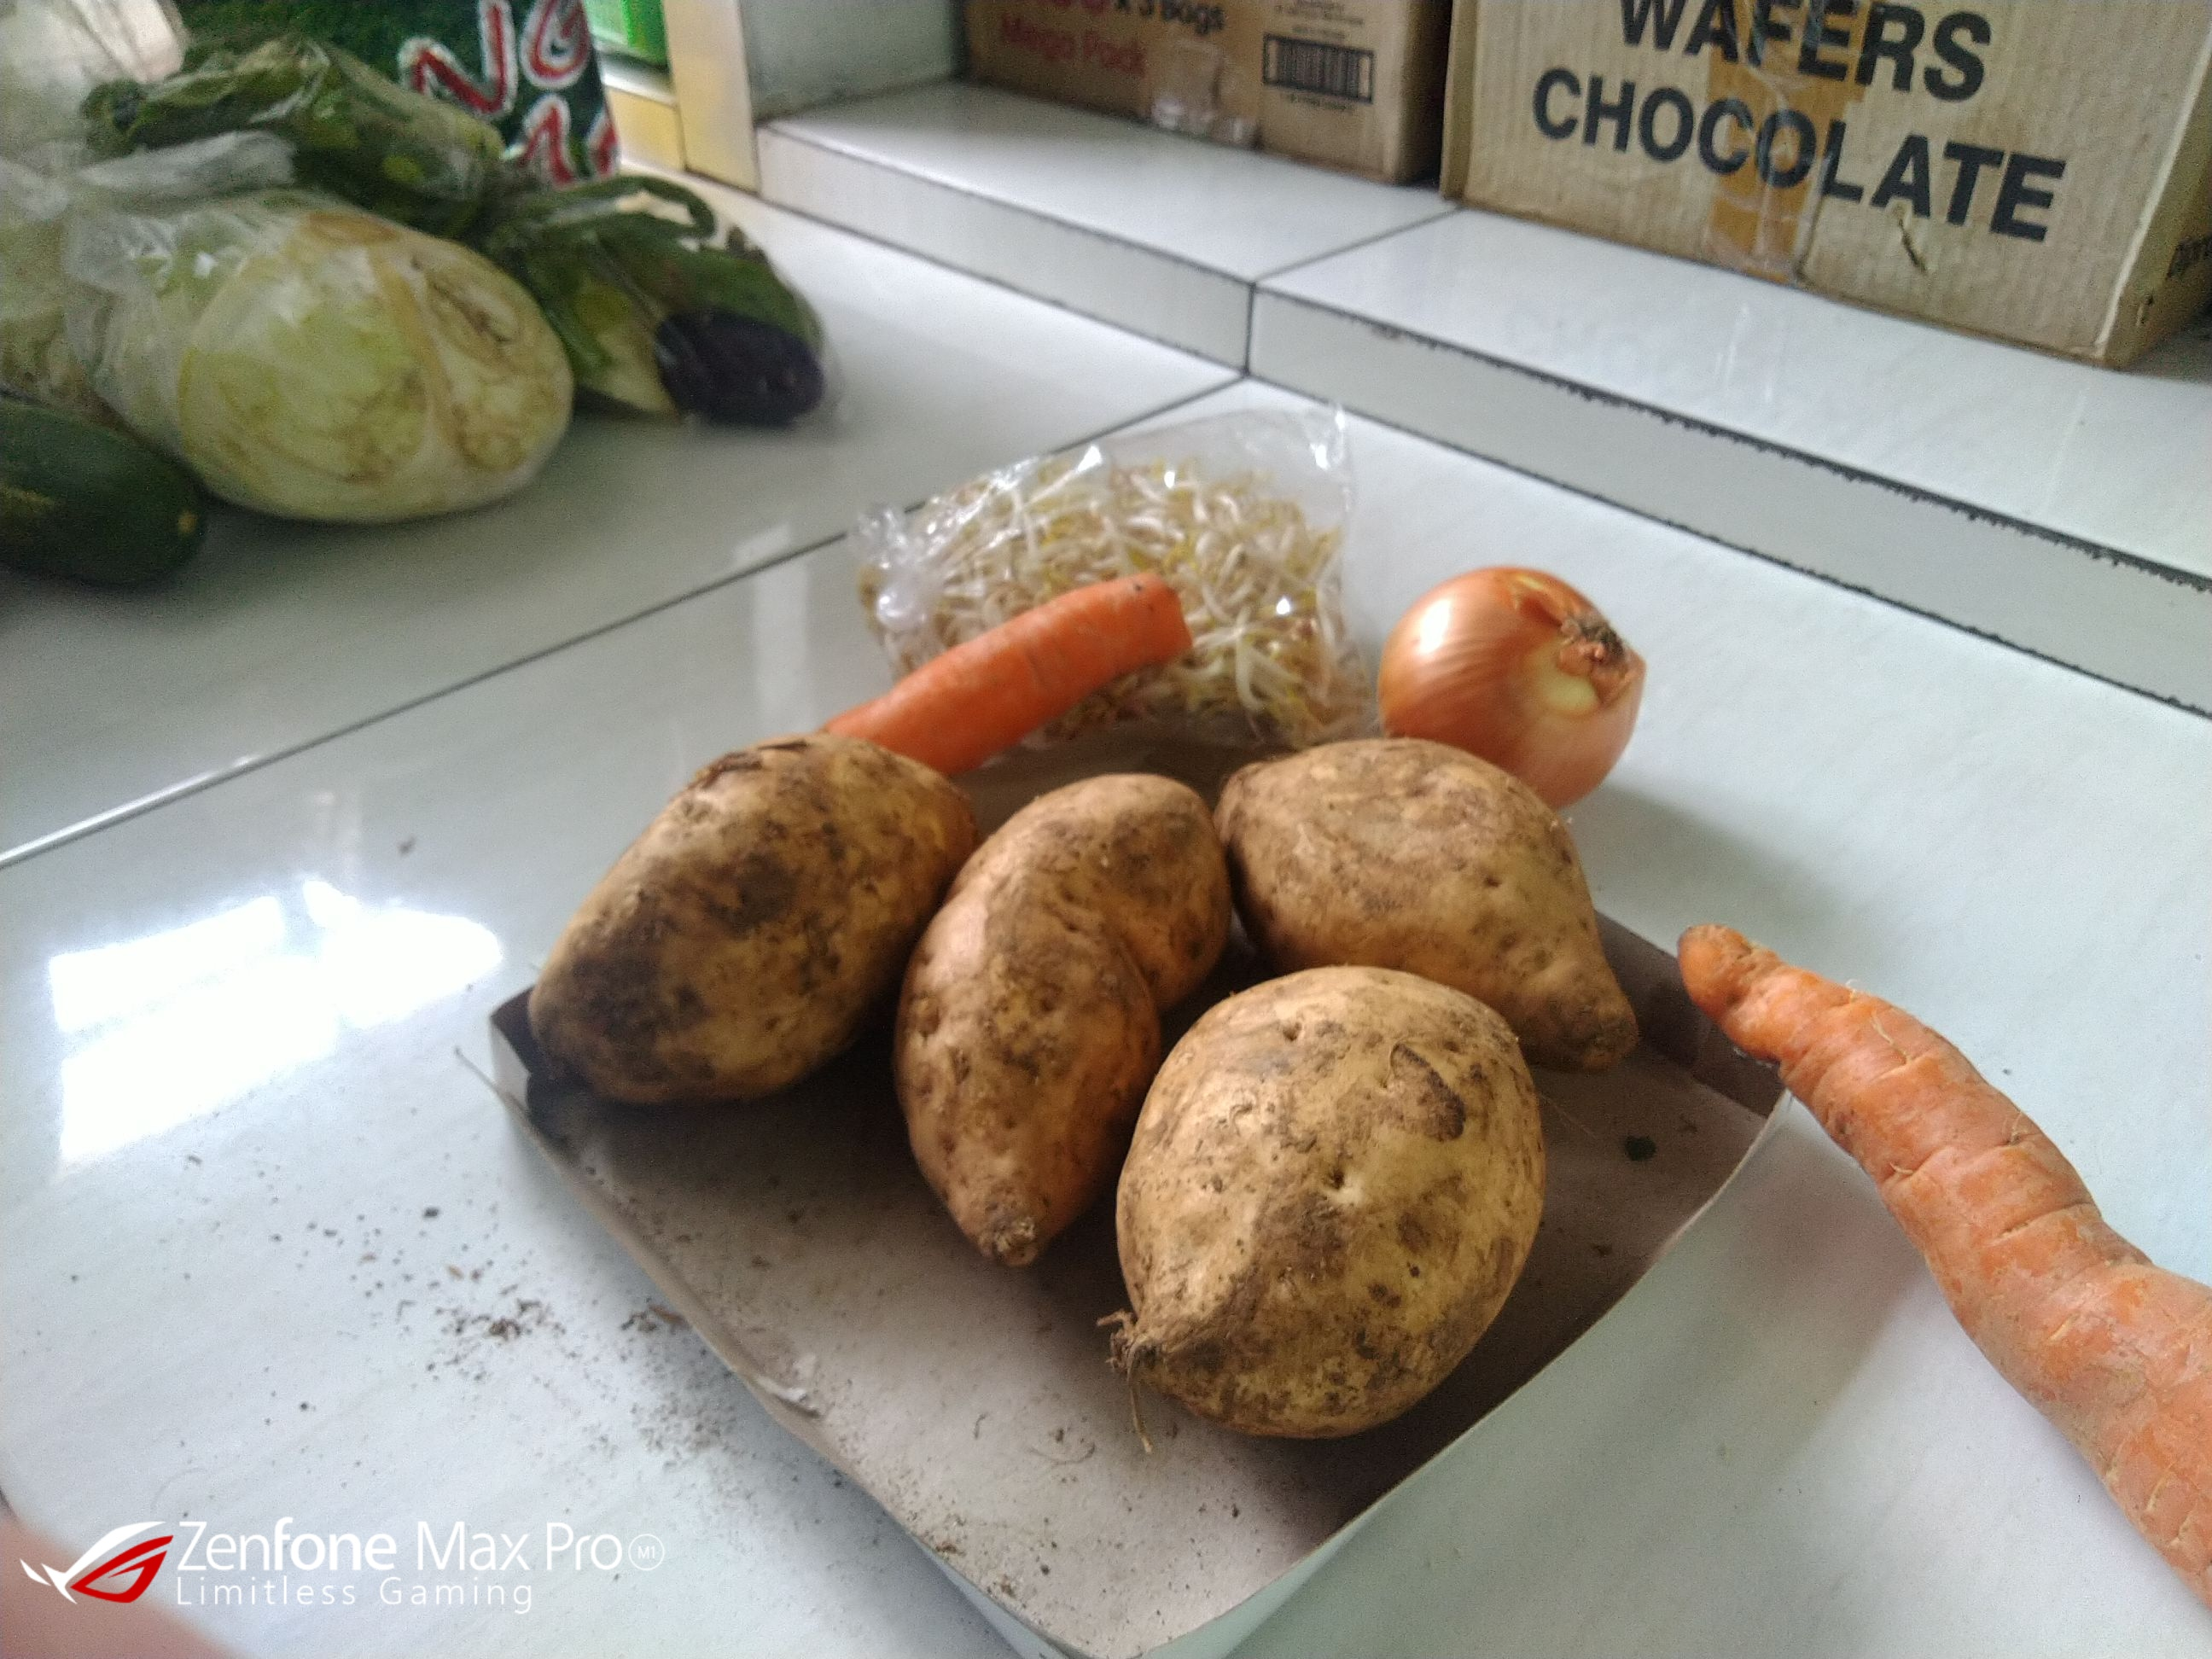ubi kuning: (1096, 957, 1581, 1453), (895, 763, 1240, 1293), (523, 735, 986, 1122), (1219, 730, 1637, 1073)
